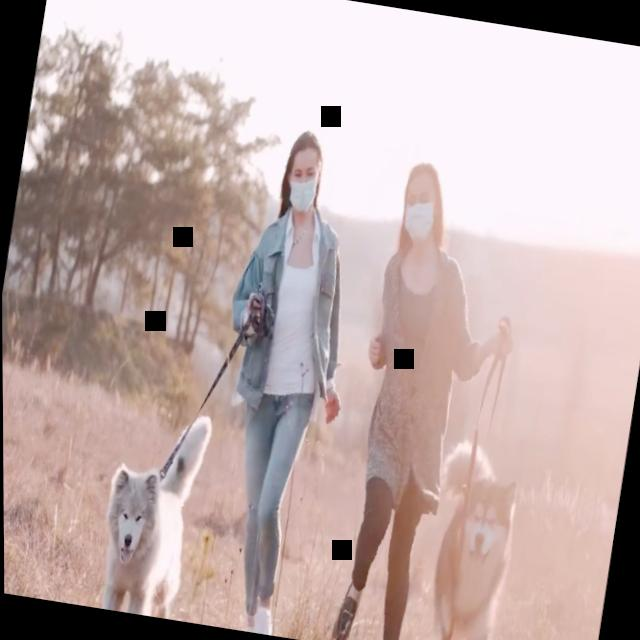Mask: (399, 180, 442, 248), (284, 150, 324, 220)
